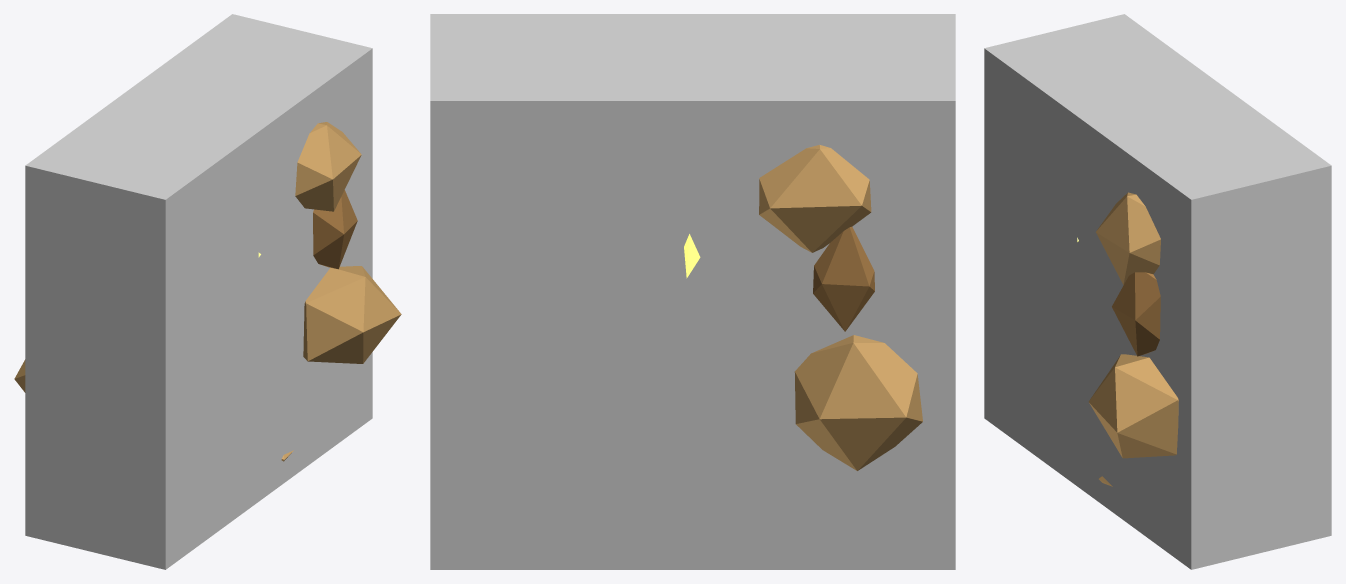
File: desert_sandstone_golem.fbx
3 views of the same model, side by side, from view 1: azimuth 30°, elevation 25°; view 2: azimuth 150°, elevation 25°; view 3: azimuth 270°, elevation 25° (orthographic). The views are drawn at different scales.
Parts seen in each view (by area): view 1: Root__-0.02_4.00_0.13__8.12_8.00_3.18, ArmL__Body__-2.41_6.10_0.00, Body__Root__0.00_4.70_0.00; view 2: Root__-0.02_4.00_0.13__8.12_8.00_3.18, ArmR__Body__2.41_6.10_0.00, Body__Root__0.00_4.70_0.00; view 3: Root__-0.02_4.00_0.13__8.12_8.00_3.18, ArmL__Body__-2.41_6.10_0.00, Body__Root__0.00_4.70_0.00.
Part boxes in pixels (bbox=[...]): Root__-0.02_4.00_0.13__8.12_8.00_3.18: bbox=[25, 14, 372, 569]; ArmL__Body__-2.41_6.10_0.00: bbox=[303, 190, 401, 363]; Body__Root__0.00_4.70_0.00: bbox=[295, 122, 361, 211]; Root__-0.02_4.00_0.13__8.12_8.00_3.18: bbox=[430, 14, 955, 569]; ArmR__Body__2.41_6.10_0.00: bbox=[794, 226, 922, 470]; Body__Root__0.00_4.70_0.00: bbox=[759, 145, 871, 252]; Root__-0.02_4.00_0.13__8.12_8.00_3.18: bbox=[984, 14, 1331, 569]; ArmL__Body__-2.41_6.10_0.00: bbox=[1088, 272, 1178, 458]; Body__Root__0.00_4.70_0.00: bbox=[1096, 192, 1160, 284].
Size of the model in its own units: 241 by 224 by 191.
2 materials, 1 textured.
